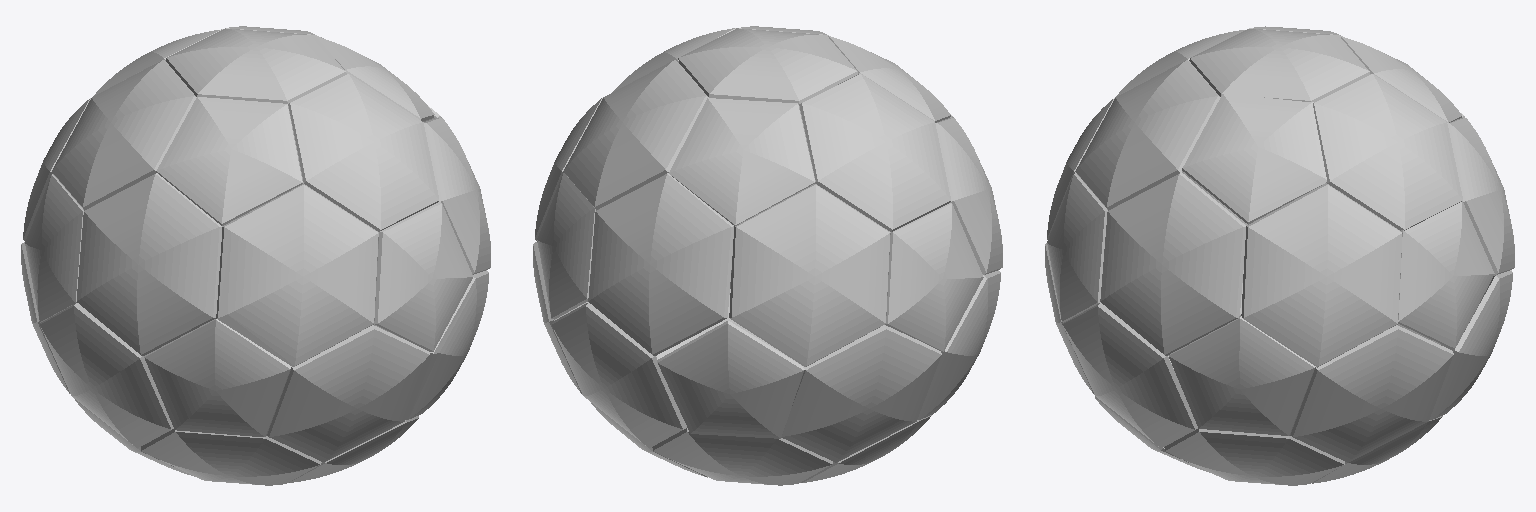
The picture shows the model from 3 angles: view 1: azimuth 30°, elevation 25°; view 2: azimuth 150°, elevation 25°; view 3: azimuth 270°, elevation 25°; orthographic projection.
Visible parts, largest first — view 1: soccerBall; view 2: soccerBall; view 3: soccerBall.
Part boxes in pixels (left/top/right/bottom): soccerBall: left=21, top=26, right=490, bottom=485; soccerBall: left=533, top=26, right=1002, bottom=485; soccerBall: left=1045, top=26, right=1514, bottom=485.
Size of the model in its own units: 343 by 340 by 348.